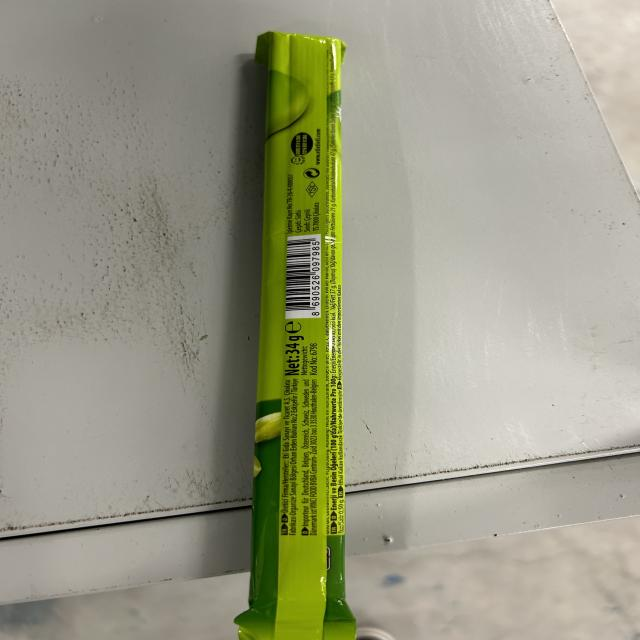object_name: (247, 36, 359, 640)
